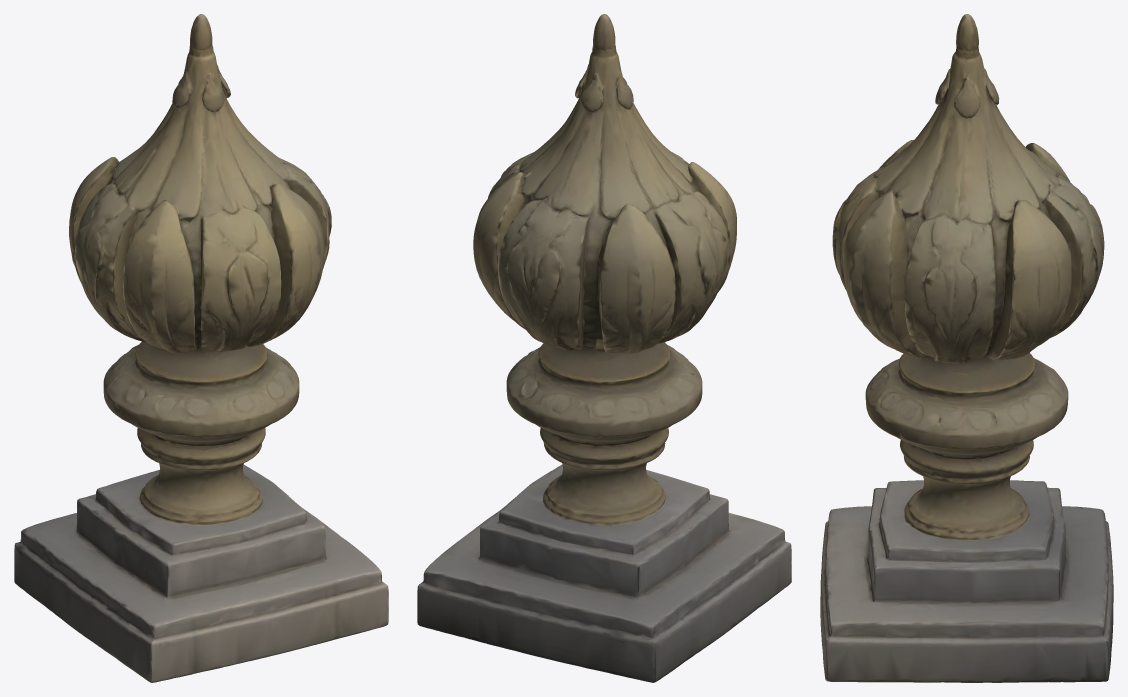
Rendered from kadamba-carved-stone-floor-slab-optimized.glb.
The picture shows the model from 3 angles, left to right: view 1: azimuth 30°, elevation 25°; view 2: azimuth 150°, elevation 25°; view 3: azimuth 270°, elevation 25°; orthographic projection. The views are drawn at different scales.
Parts seen in each view (by area): view 1: world; view 2: world; view 3: world.
Boxes of the visible parts, x1=… form: world: x1=14, y1=14, x2=388, y2=682; world: x1=417, y1=14, x2=791, y2=682; world: x1=820, y1=14, x2=1113, y2=682.
Bounding box in the file's own units: 0.3027 × 0.7 × 0.3054.
1 material, 1 textured.
